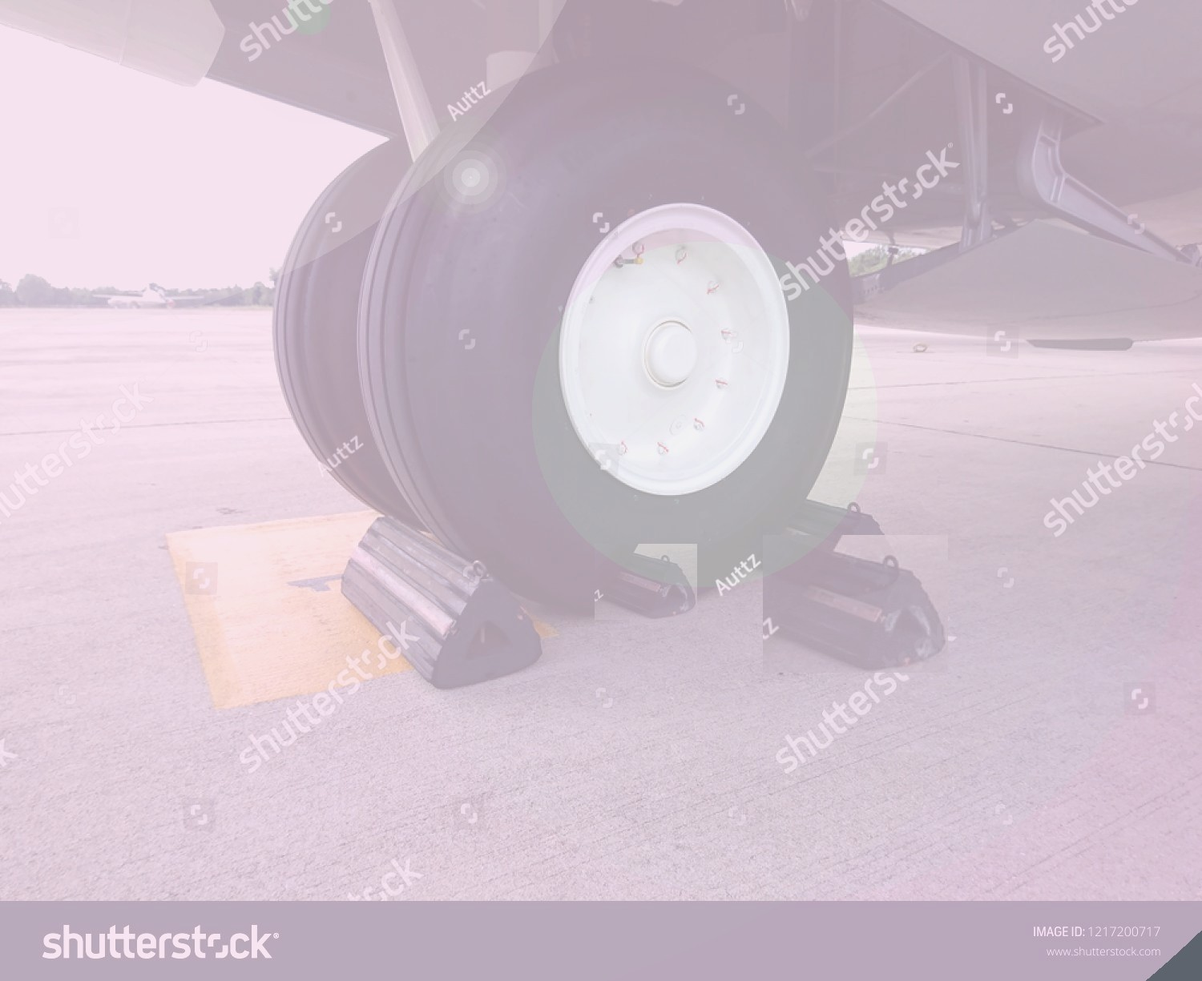chock: (340, 513, 541, 690), (763, 535, 948, 673), (748, 486, 902, 601), (595, 544, 697, 620)
wheel: (378, 58, 829, 615), (268, 134, 433, 524)
